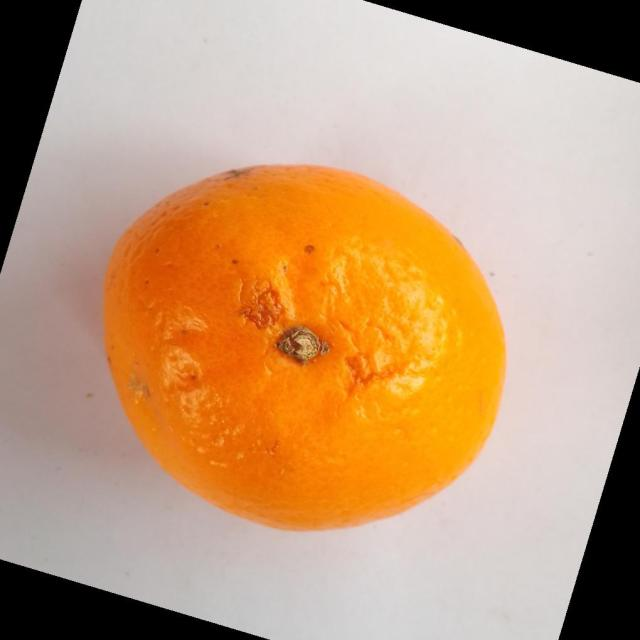fresh orange: (101, 162, 507, 532)
